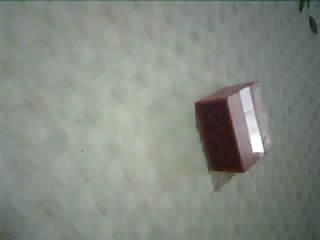lego: (193, 79, 277, 176)
